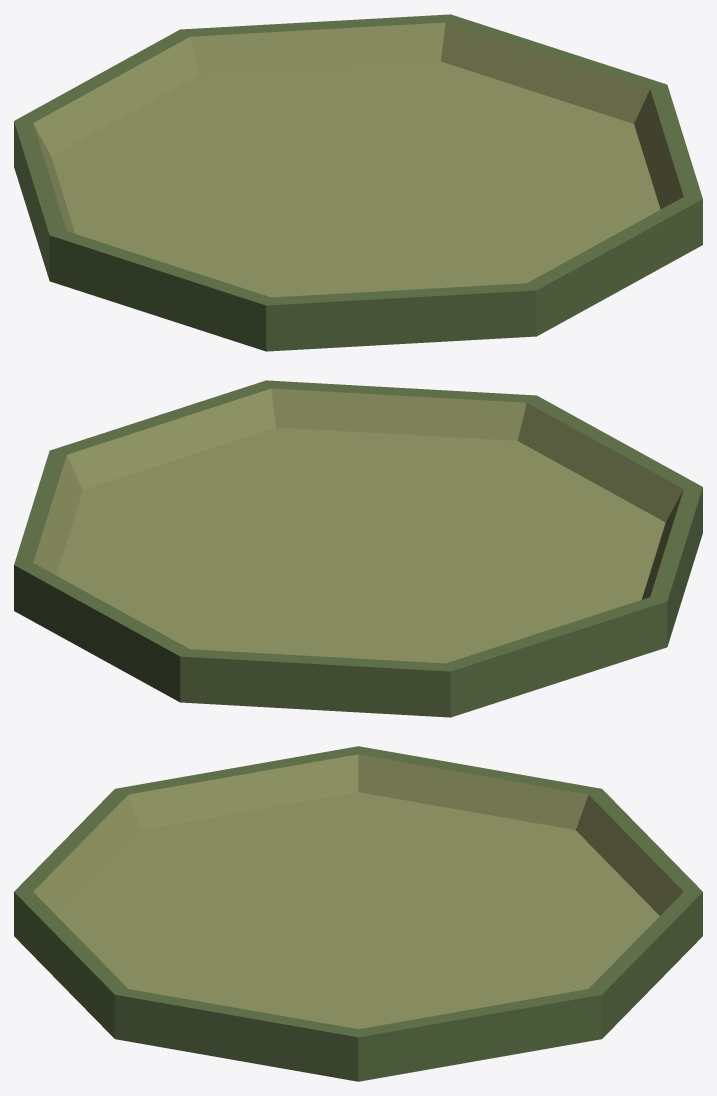
The model's file is SM_River_Floating_Plant_02.fbx.
3 renders of one model, top to bottom at view 1: azimuth 30°, elevation 25°; view 2: azimuth 150°, elevation 25°; view 3: azimuth 270°, elevation 25°, orthographic. The views are drawn at different scales.
Visible parts, largest first — view 1: River_Floating_Plant_02; view 2: River_Floating_Plant_02; view 3: River_Floating_Plant_02.
Boxes of the visible parts, bbox=[...] form: River_Floating_Plant_02: bbox=[14, 14, 702, 351]; River_Floating_Plant_02: bbox=[14, 380, 702, 717]; River_Floating_Plant_02: bbox=[14, 746, 702, 1081].
Size of the model in its own units: 54.64 by 3.89 by 54.64.
